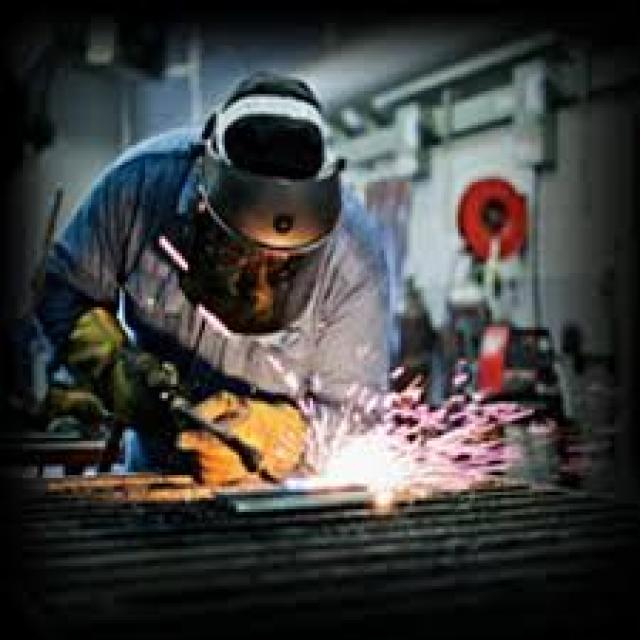with_helmet: (178, 55, 354, 344)
